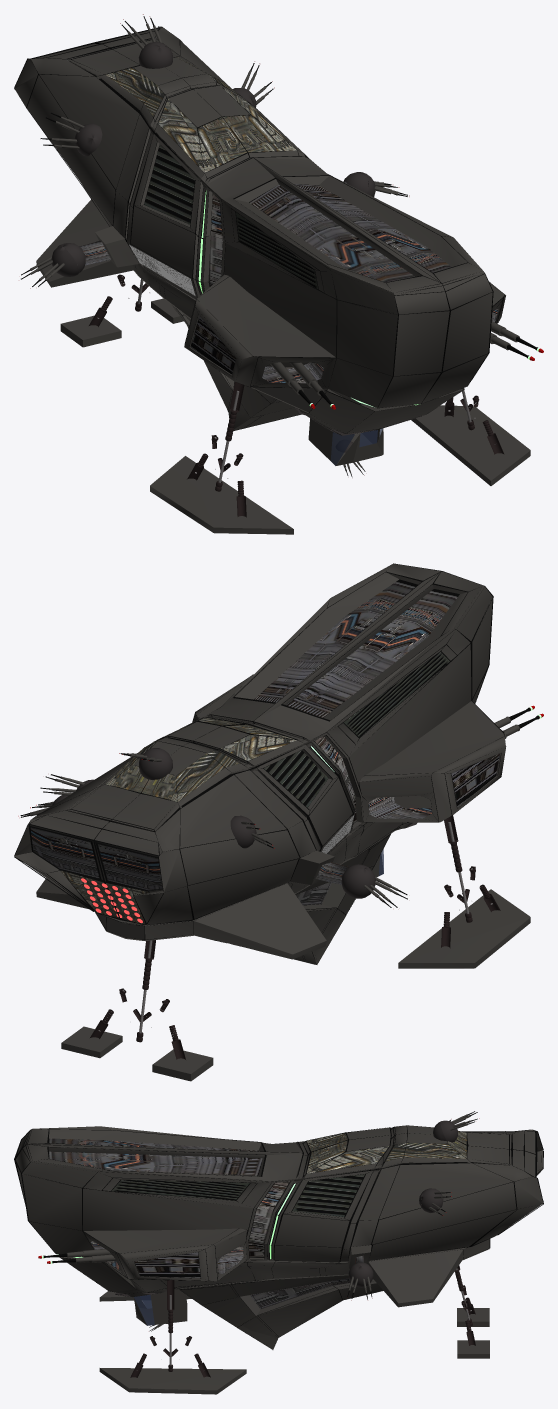
File: hauler.glb
The picture shows the model from 3 angles, top to bottom: view 1: azimuth 30°, elevation 25°; view 2: azimuth 150°, elevation 25°; view 3: azimuth 270°, elevation 25°; orthographic projection. The views are drawn at different scales.
Visible parts, largest first — view 1: hauler_mesh; view 2: hauler_mesh; view 3: hauler_mesh.
Boxes of the visible parts, <box> form: hauler_mesh: <box>14,14,543,534</box>; hauler_mesh: <box>14,563,543,1081</box>; hauler_mesh: <box>14,1111,543,1394</box>.
Size of what is drawn, in the model's own units: 6.06 by 4.63 by 10.
13 materials, 3 textured.
